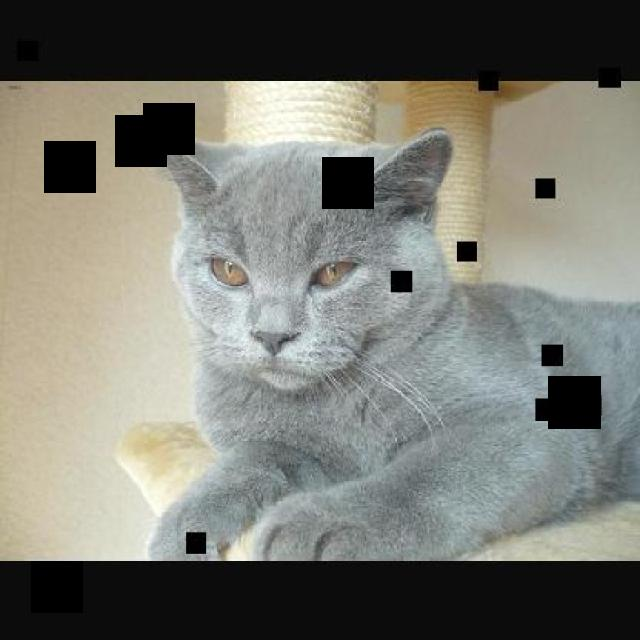unauthorized: (137, 115, 638, 560)
